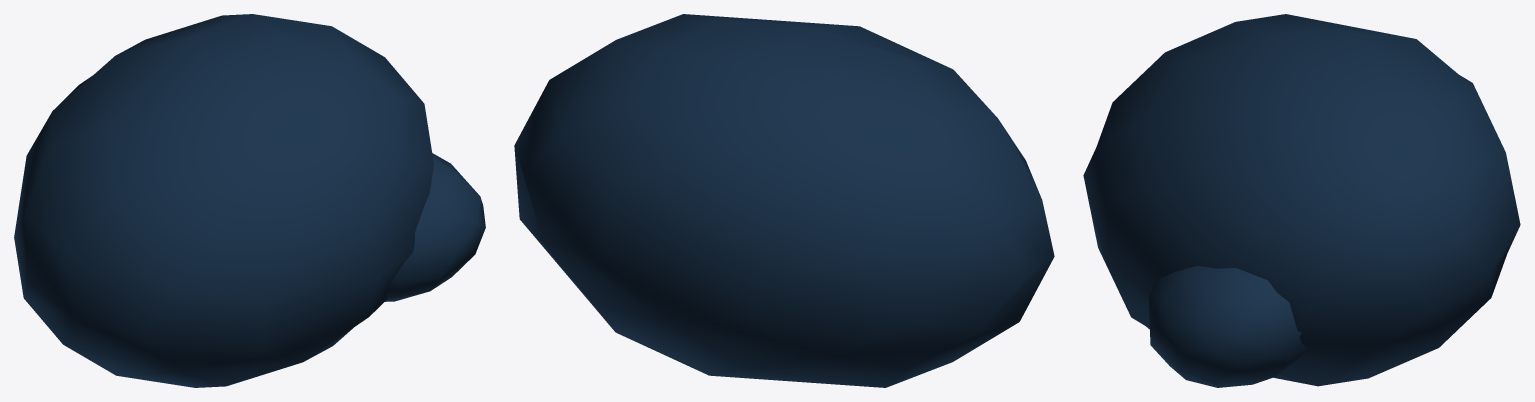
File: ocean_rock.glb
The picture shows the model from 3 angles, left to right: view 1: azimuth 30°, elevation 25°; view 2: azimuth 150°, elevation 25°; view 3: azimuth 270°, elevation 25°; orthographic projection. The views are drawn at different scales.
Visible parts, largest first — view 1: OceanRock; view 2: OceanRock; view 3: OceanRock.
Part boxes in pixels (bbox=[...]): OceanRock: bbox=[14, 14, 485, 387]; OceanRock: bbox=[514, 14, 1054, 387]; OceanRock: bbox=[1083, 14, 1520, 387].
Bounding box in the file's own units: 2.7 × 1.8 × 2.2.
